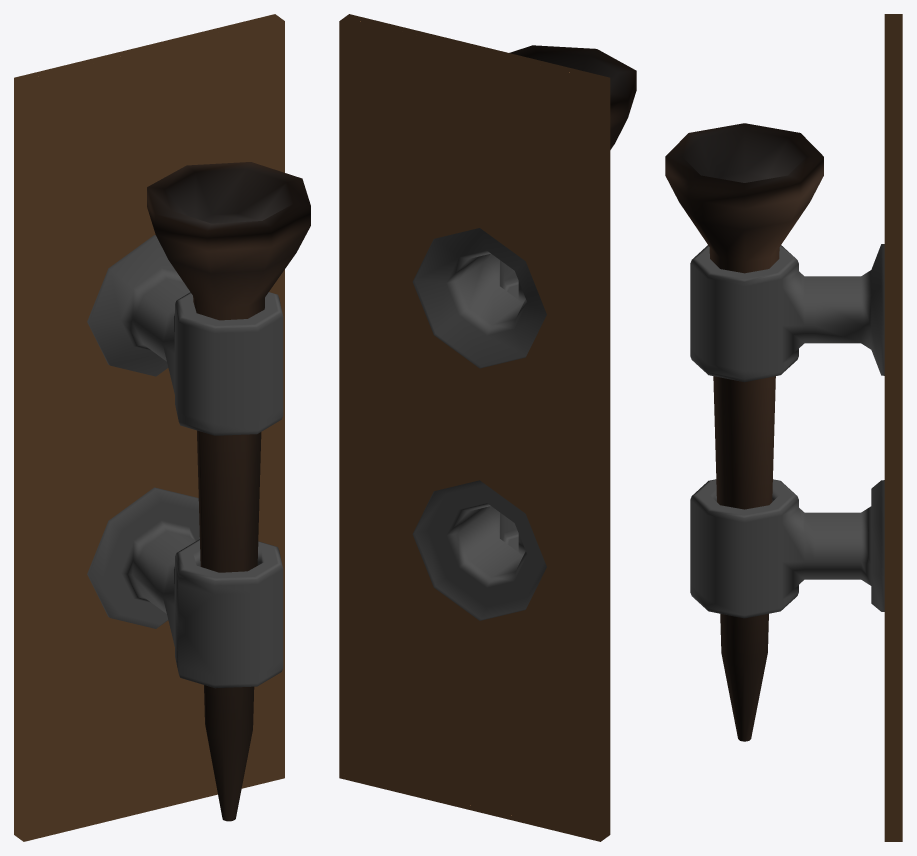
File: wall_sconce.fbx
3 views of the same model, side by side, from view 1: azimuth 30°, elevation 25°; view 2: azimuth 150°, elevation 25°; view 3: azimuth 270°, elevation 25° (orthographic). The views are drawn at different scales.
Parts seen in each view (by area): view 1: Wall_Sconce; view 2: Wall_Sconce; view 3: Wall_Sconce.
Part boxes in pixels (box(x1,y1,x2,y2)): Wall_Sconce: box(14, 14, 310, 841); Wall_Sconce: box(339, 14, 636, 841); Wall_Sconce: box(665, 14, 902, 841).
Size of the model in its own units: 15.91 by 44.08 by 13.39.
